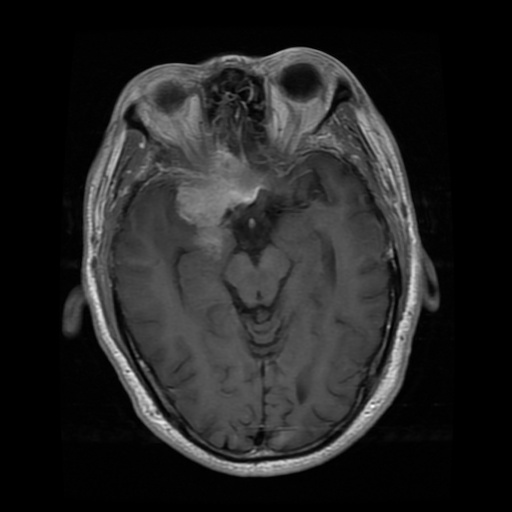meningioma: (175, 147, 264, 249)
